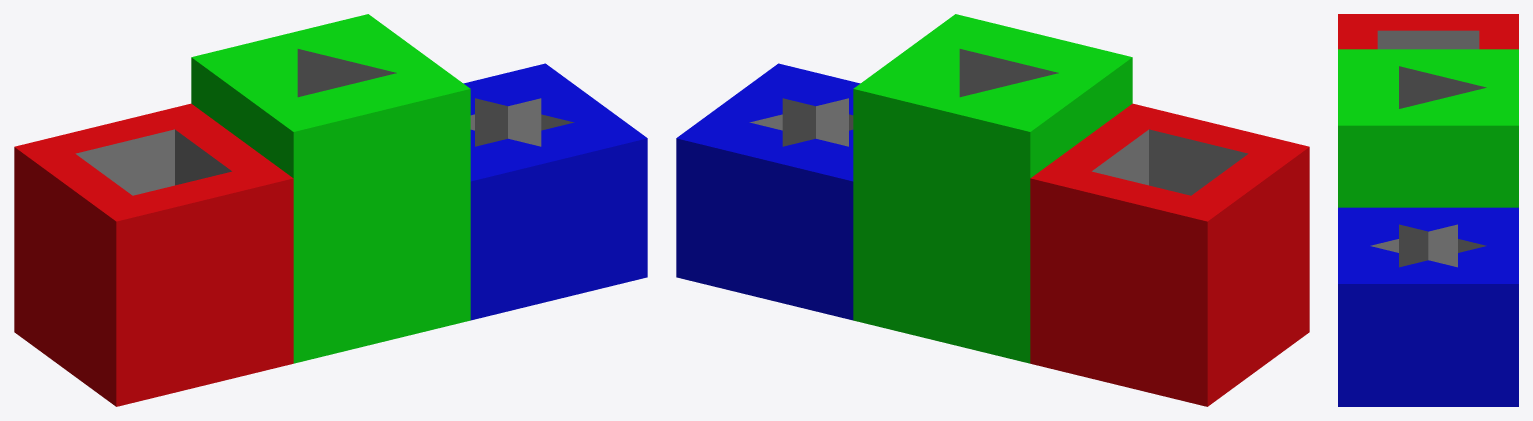
File: box_star_tri_containor.dae
3 renders of one model, left to right at view 1: azimuth 30°, elevation 25°; view 2: azimuth 150°, elevation 25°; view 3: azimuth 270°, elevation 25°, orthographic. The views are drawn at different scales.
Parts seen in each view (by area): view 1: frame; view 2: frame; view 3: frame.
Boxes of the visible parts, bbox=[...] form: frame: bbox=[14, 14, 647, 406]; frame: bbox=[676, 14, 1309, 406]; frame: bbox=[1338, 14, 1518, 406].
Bounding box in the file's own units: 0.24 × 0.08 × 0.1.
